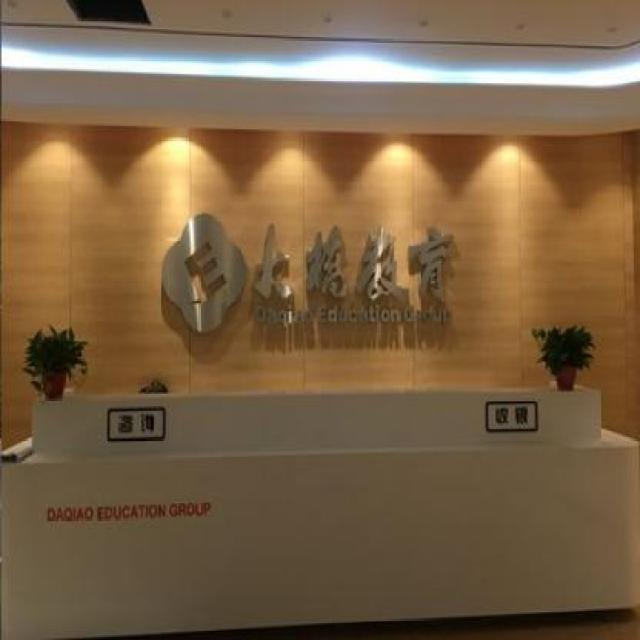frontdesk: (0, 366, 640, 637)
